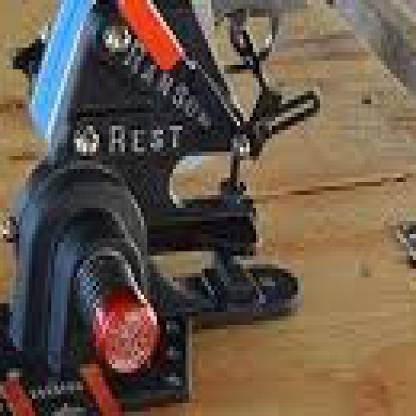gun: (64, 0, 413, 104)
